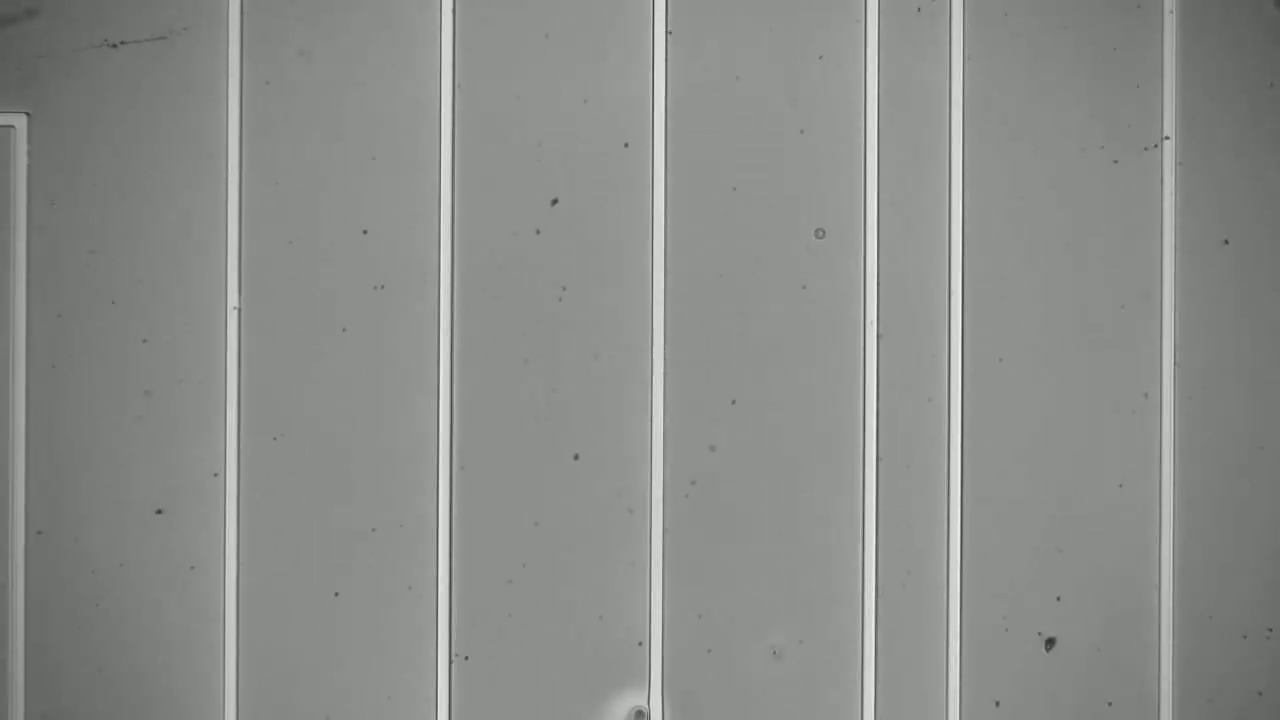scratch: (54, 17, 201, 61)
